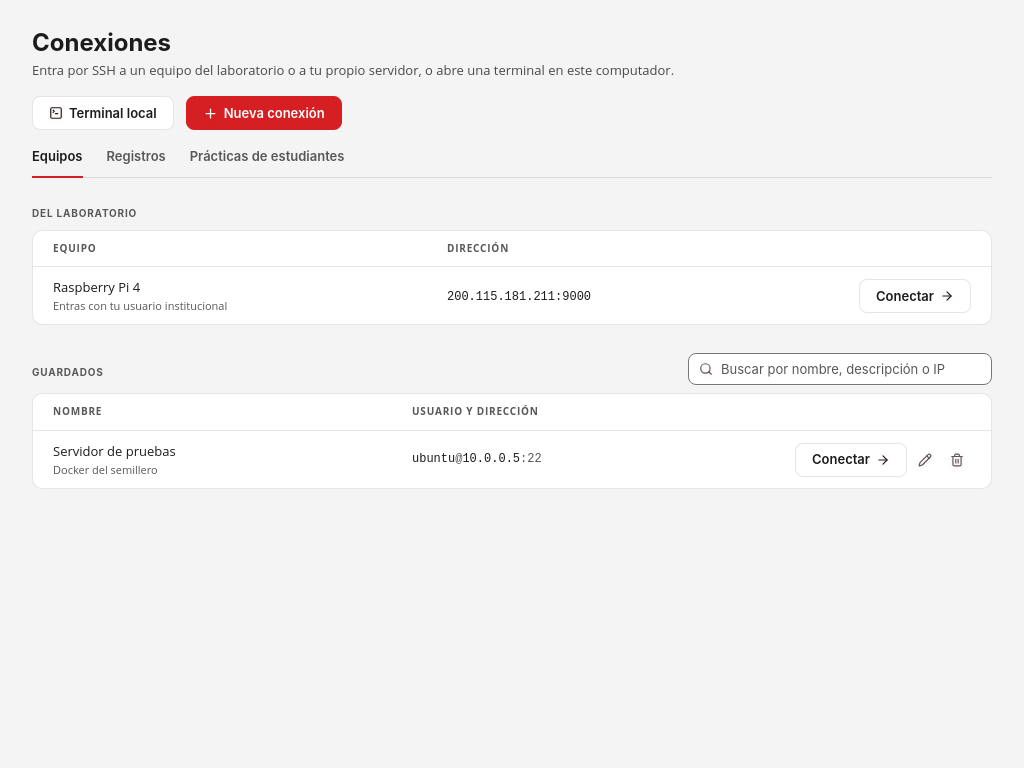
Test: Conexiones › eliminar un equipo pide confirmación y lo borra
What coordinates should you click on to do the following:
click the button named "Eliminar Servidor de pruebas"
I would click on:
 (957, 460)
Its box is [943,446,971,474].
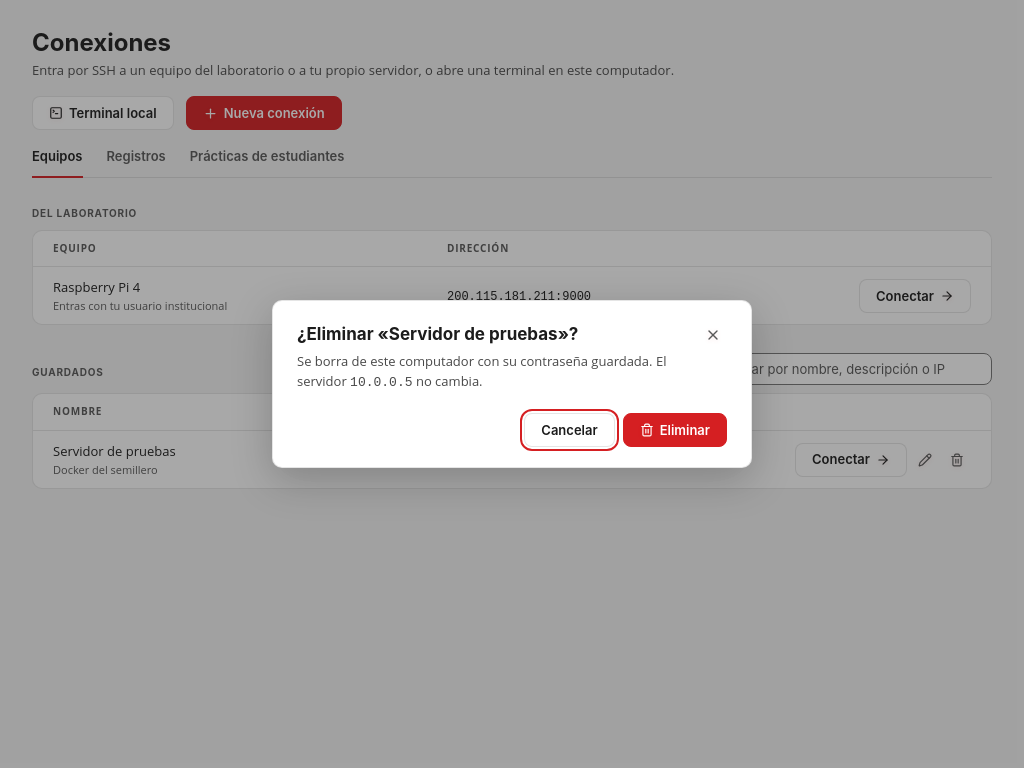
What coordinates should you click on to do the following:
click the button "Eliminar"
I would click on:
 (675, 430)
Its box is [623,413,727,447].
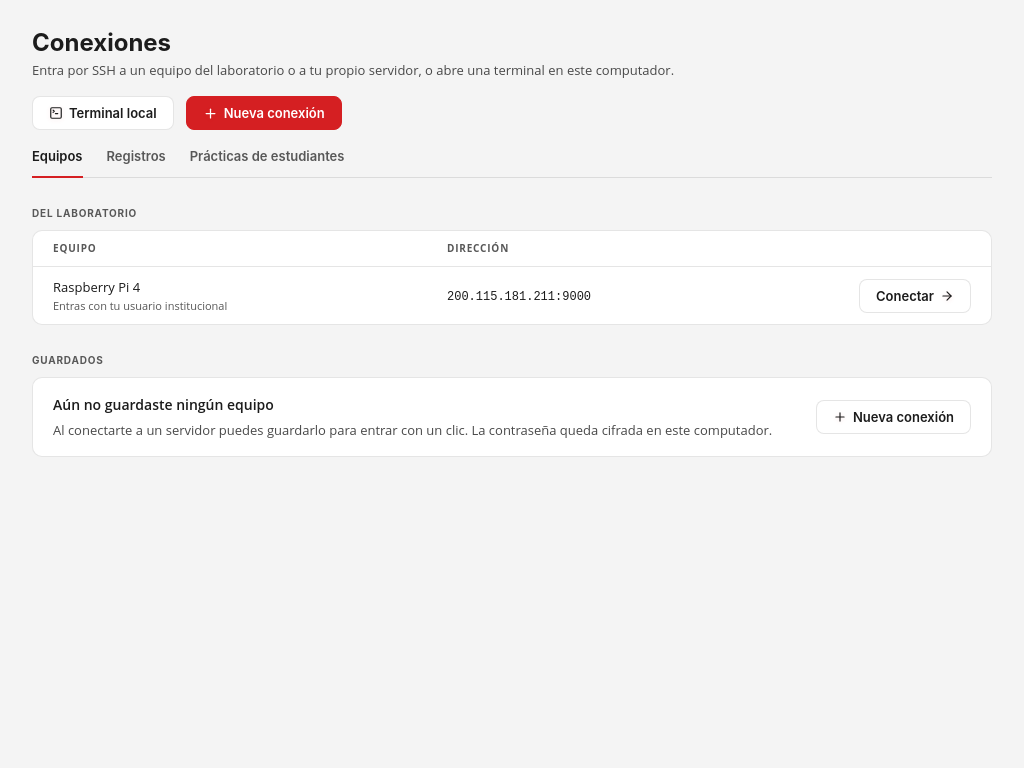
Now the text "Servidor de pruebas" is gone
